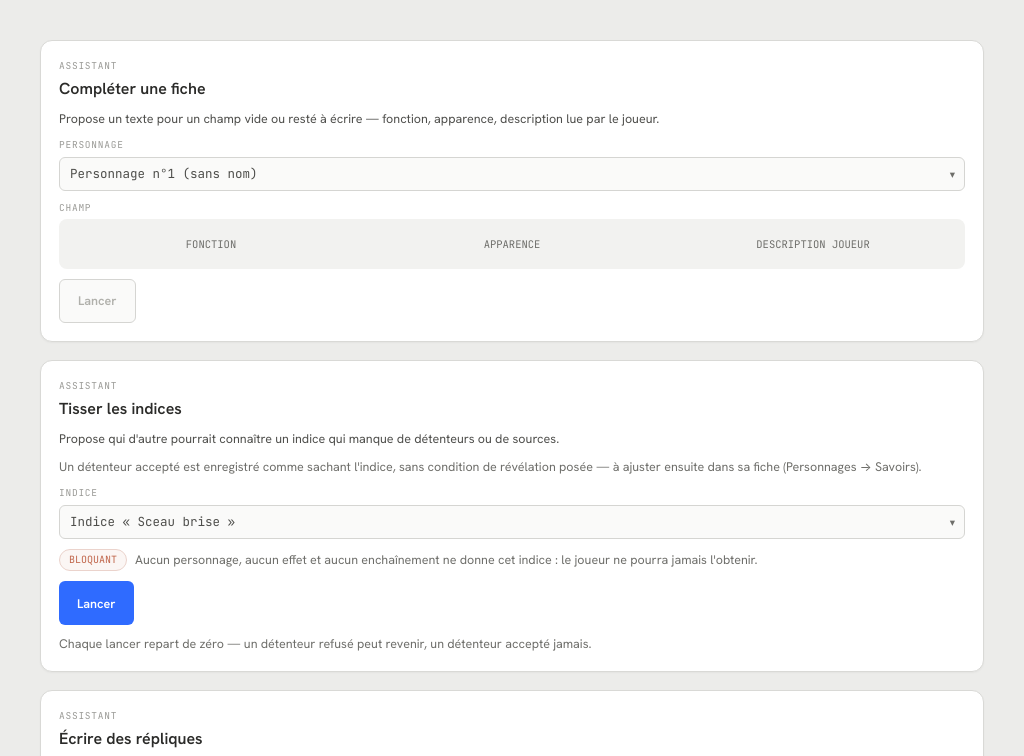
Test case: detenteurs - sept textes d etat, deux a deux distincts › le texte trop-long de la carte 2 est distinct de celui de la carte 1
Click the button "Lancer" below "BLOQUANT" at [96, 603], box [59,581,134,625]
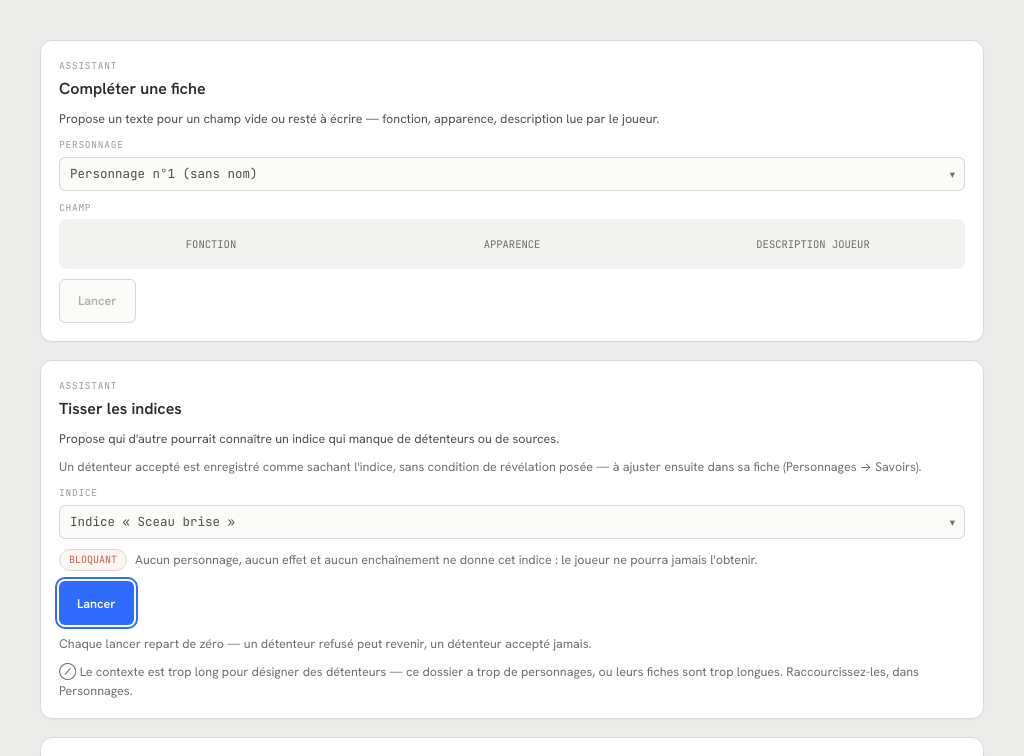
Result: the text "Le contexte est trop long pour désigner des détenteurs" is shown at [59,664,919,699]
